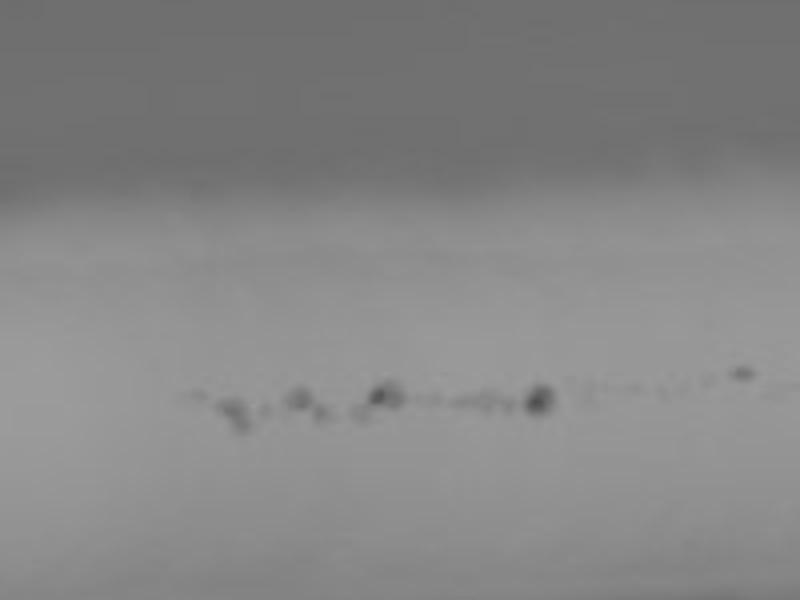defect: (219, 400, 252, 433), (371, 379, 402, 410), (474, 387, 503, 416), (525, 385, 553, 413), (285, 386, 310, 411), (346, 402, 370, 426), (187, 386, 208, 404), (732, 363, 751, 382), (311, 404, 329, 422), (449, 392, 467, 410), (260, 402, 274, 416)
